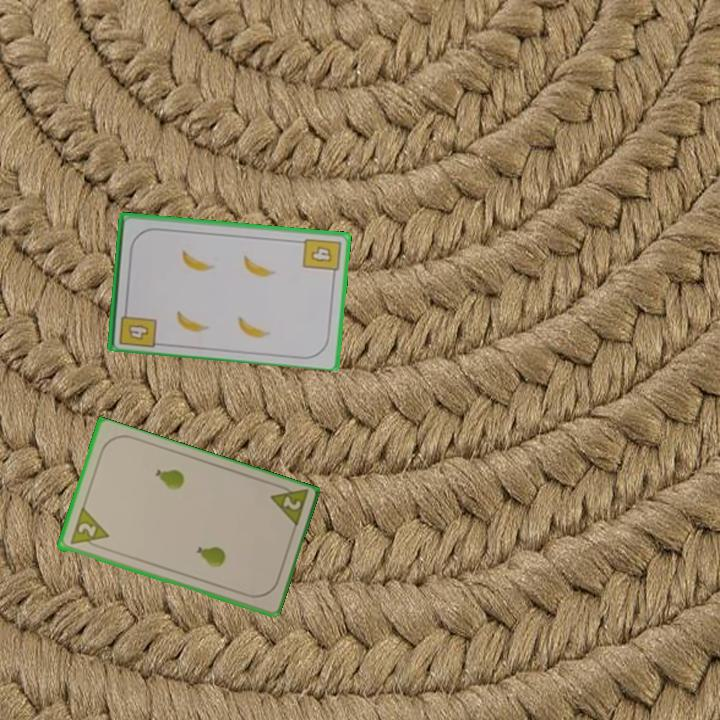2p: (266, 480, 311, 531), (66, 505, 111, 553)
4b: (115, 303, 159, 350), (299, 235, 343, 280)
